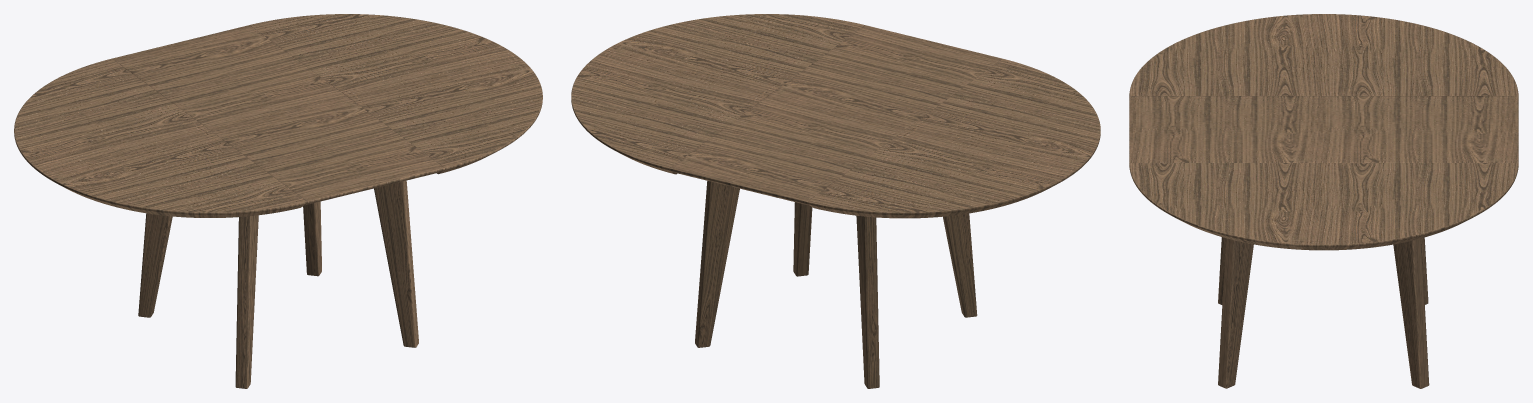
The model's file is urban-kruglyj_l113.glb.
3 renders of one model, left to right at view 1: azimuth 30°, elevation 25°; view 2: azimuth 150°, elevation 25°; view 3: azimuth 270°, elevation 25°, orthographic.
Parts seen in each view (by area): view 1: urban-kruglyj_L113; view 2: urban-kruglyj_L113; view 3: urban-kruglyj_L113.
Boxes of the visible parts, x1,y1,x2,y2 form: urban-kruglyj_L113: [14, 14, 542, 388]; urban-kruglyj_L113: [571, 14, 1100, 388]; urban-kruglyj_L113: [1129, 14, 1518, 388].
Size of the model in its own units: 1.75 by 0.7598 by 1.25.
Materials: 2 (2 with a texture image).
